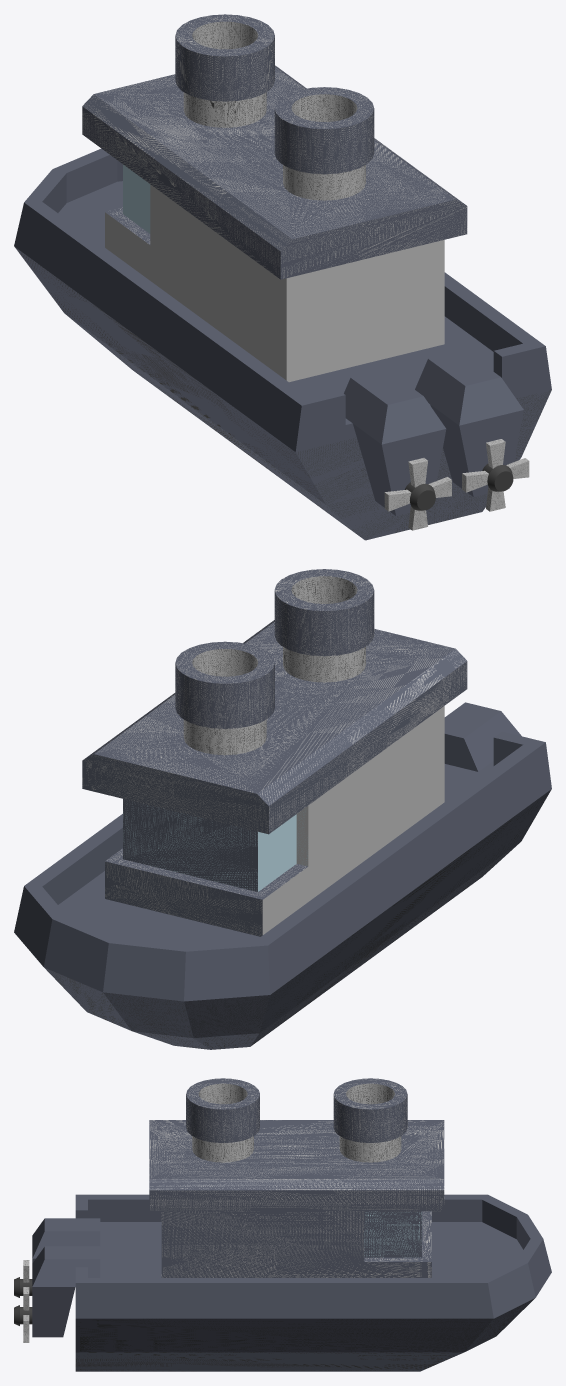
File: boat_023.dae
The picture shows the model from 3 angles, top to bottom: view 1: azimuth 30°, elevation 25°; view 2: azimuth 150°, elevation 25°; view 3: azimuth 270°, elevation 25°; orthographic projection. The views are drawn at different scales.
Parts seen in each view (by area): view 1: boat_023, Group (×4); view 2: boat_023, Group; view 3: boat_023, Group (×2).
Boxes of the visible parts, x1=… form: boat_023: x1=14, y1=14, x2=551, y2=540; Group (×4): x1=344, y1=350, x2=529, y2=530; boat_023: x1=14, y1=569, x2=551, y2=1049; Group: x1=444, y1=702, x2=521, y2=771; boat_023: x1=75, y1=1078, x2=551, y2=1371; Group (×2): x1=14, y1=1218, x2=100, y2=1337.
Bounding box in the file's own units: 2.59 × 3.33 × 6.34.
